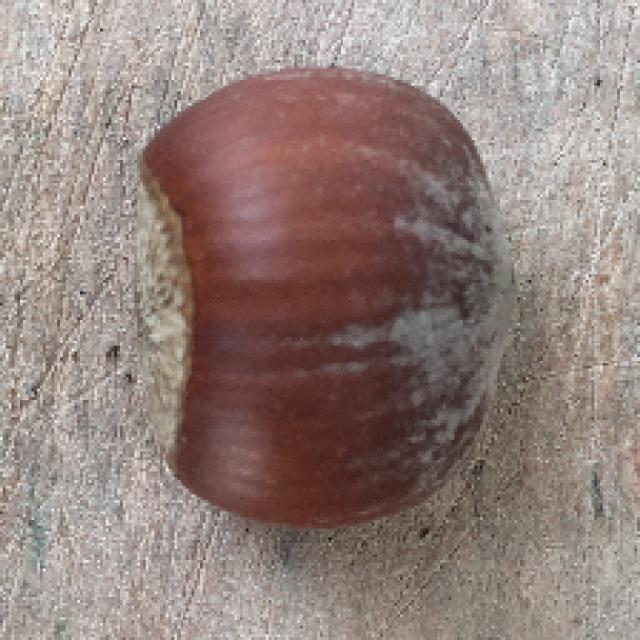DamagedHazelnut: (128, 70, 517, 529)
